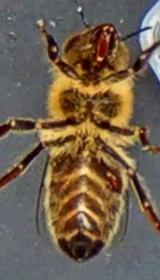varroa_mite: (100, 162, 122, 190)
